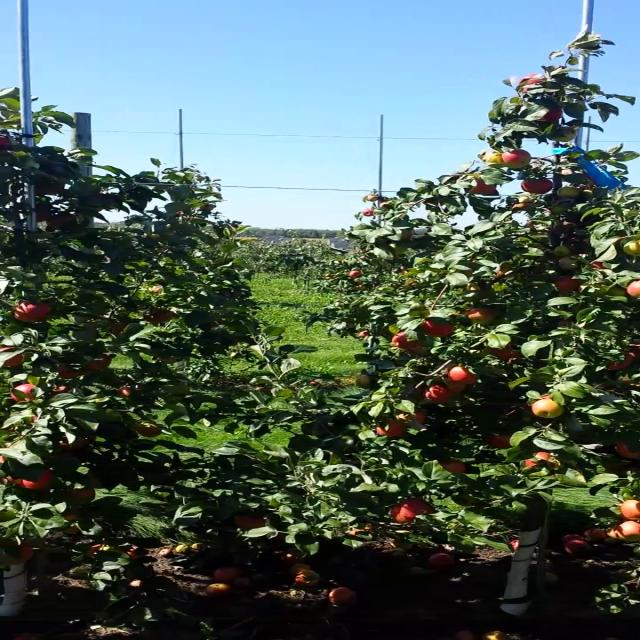apple: (387, 498, 437, 524), (12, 300, 49, 322), (604, 349, 639, 372), (19, 470, 55, 489), (532, 397, 566, 417), (604, 521, 638, 541), (3, 540, 31, 564), (420, 318, 456, 336), (501, 148, 531, 168), (448, 365, 477, 385), (520, 178, 554, 195), (391, 331, 425, 348), (234, 514, 269, 530), (487, 343, 516, 362), (425, 383, 454, 402), (524, 452, 558, 468), (610, 439, 637, 459), (376, 418, 405, 436), (466, 307, 500, 322), (479, 436, 515, 450), (0, 347, 24, 367), (55, 364, 85, 380), (47, 213, 75, 230), (10, 384, 36, 402), (59, 513, 82, 533), (440, 378, 468, 394), (482, 150, 508, 167), (518, 73, 540, 93), (550, 126, 577, 142), (466, 180, 496, 194), (84, 355, 110, 371), (54, 437, 88, 449), (134, 423, 161, 438), (621, 499, 639, 521), (396, 409, 424, 423), (142, 310, 172, 322), (556, 278, 585, 290), (556, 186, 584, 198), (70, 487, 94, 501), (540, 108, 562, 122), (558, 255, 580, 269), (443, 460, 465, 474), (353, 373, 371, 389), (551, 243, 573, 255), (623, 240, 639, 255), (52, 384, 74, 394), (34, 210, 52, 222), (626, 279, 638, 297), (113, 322, 126, 336), (118, 385, 132, 397), (495, 268, 511, 278), (510, 201, 535, 207), (6, 474, 20, 484), (590, 261, 606, 269), (1, 134, 7, 144), (0, 454, 6, 464)
